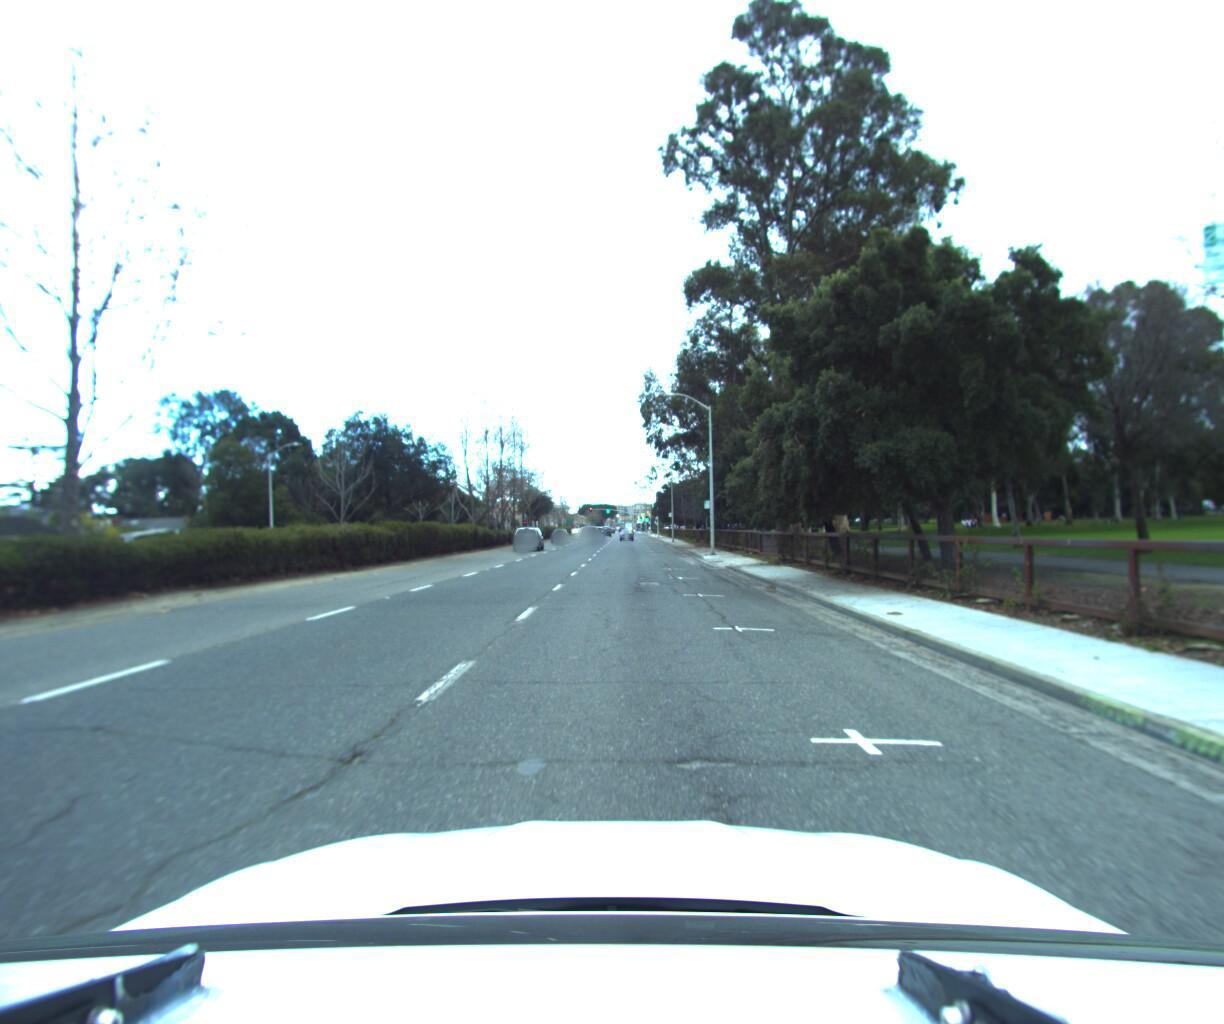car: (509, 522, 547, 551), (582, 527, 603, 543)
